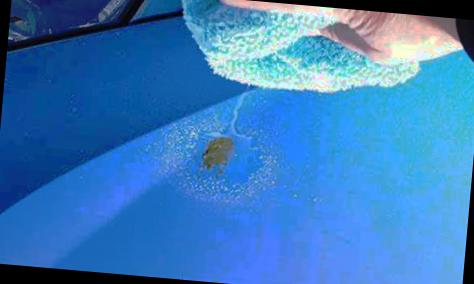Bird Poop: (200, 135, 232, 175)
